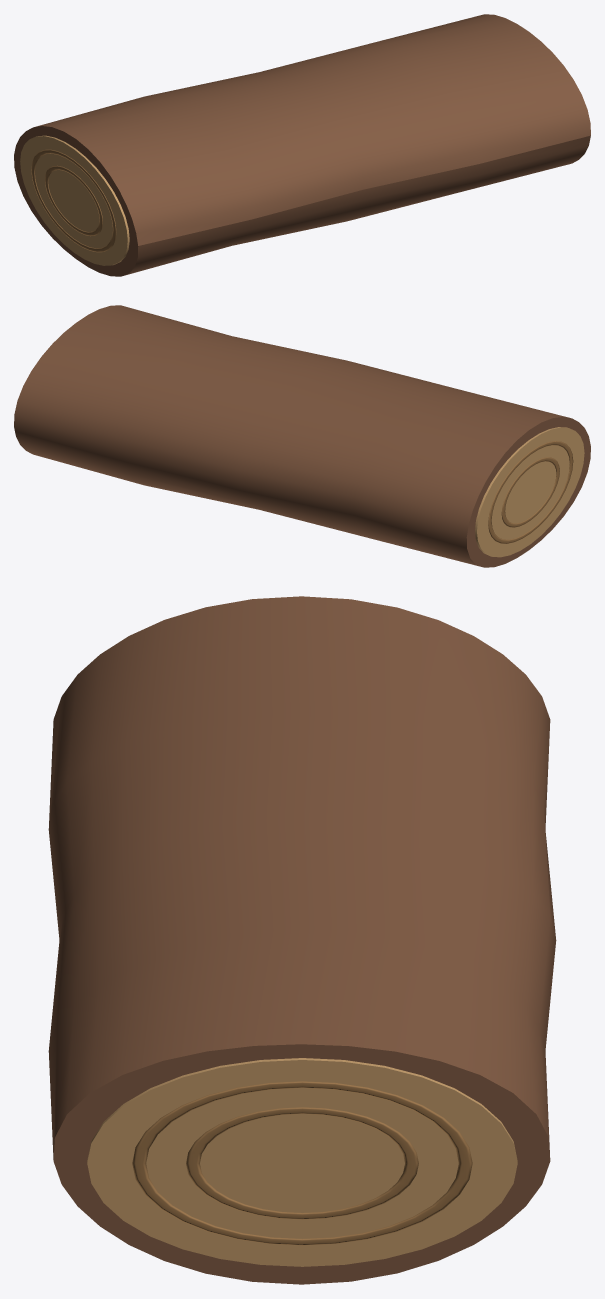
Rendered from log.glb.
3 renders of one model, top to bottom at view 1: azimuth 30°, elevation 25°; view 2: azimuth 150°, elevation 25°; view 3: azimuth 270°, elevation 25°, orthographic. The views are drawn at different scales.
Visible parts, largest first — view 1: continuous-bark-trunk, inset-end--1, end-ring--1-0-82, end-ring--1-0-55; view 2: continuous-bark-trunk, inset-end--1, end-ring--1-0-82, end-ring--1-0-55; view 3: continuous-bark-trunk, inset-end-1, end-ring-1-0-82, end-ring-1-0-55.
Boxes of the visible parts, left/top/right/bottom form: continuous-bark-trunk: left=14, top=14, right=590, bottom=276; inset-end--1: left=20, top=135, right=129, bottom=265; end-ring--1-0-82: left=31, top=149, right=116, bottom=252; end-ring--1-0-55: left=45, top=165, right=102, bottom=236; continuous-bark-trunk: left=14, top=305, right=590, bottom=567; inset-end--1: left=475, top=427, right=584, bottom=557; end-ring--1-0-82: left=488, top=441, right=573, bottom=543; end-ring--1-0-55: left=501, top=457, right=559, bottom=527; continuous-bark-trunk: left=48, top=596, right=556, bottom=1284; inset-end-1: left=87, top=1058, right=517, bottom=1266; end-ring-1-0-82: left=132, top=1081, right=472, bottom=1245; end-ring-1-0-55: left=186, top=1107, right=418, bottom=1219.
Size of the model in its own units: 1.37 by 0.3536 by 0.66.
